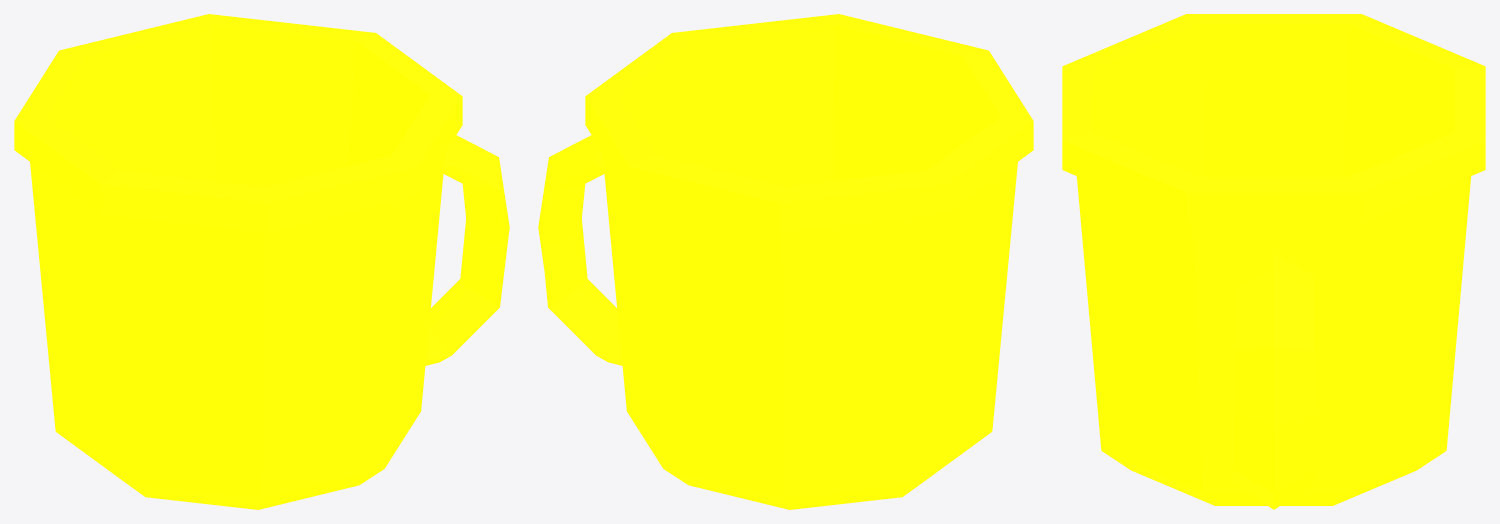
The model's file is mug-christmas.glb.
3 renders of one model, left to right at view 1: azimuth 30°, elevation 25°; view 2: azimuth 150°, elevation 25°; view 3: azimuth 270°, elevation 25°, orthographic.
Visible parts, largest first — view 1: mug_christmas; view 2: mug_christmas; view 3: mug_christmas.
Boxes of the visible parts, bbox=[...] form: mug_christmas: bbox=[14, 14, 509, 509]; mug_christmas: bbox=[538, 14, 1033, 509]; mug_christmas: bbox=[1062, 14, 1485, 509].
Bounding box in the file's own units: 0.1251 × 0.09 × 0.1001.
Materials: 1 (1 with a texture image).
